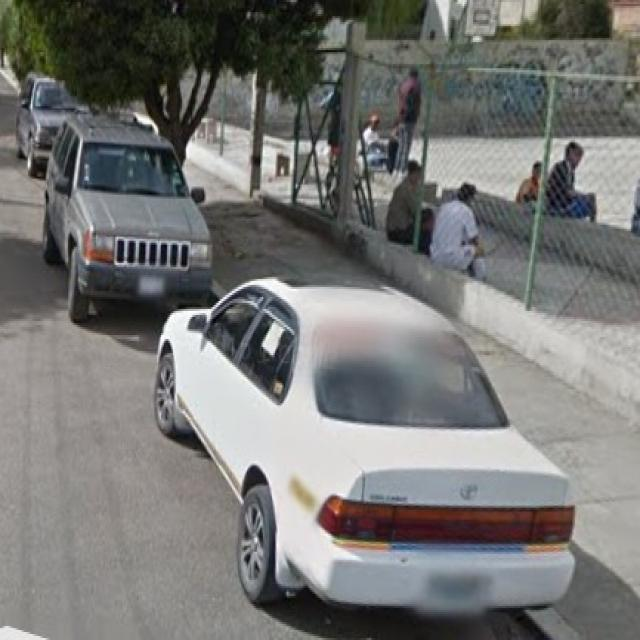truck: (178, 256, 576, 622), (54, 118, 215, 310)
